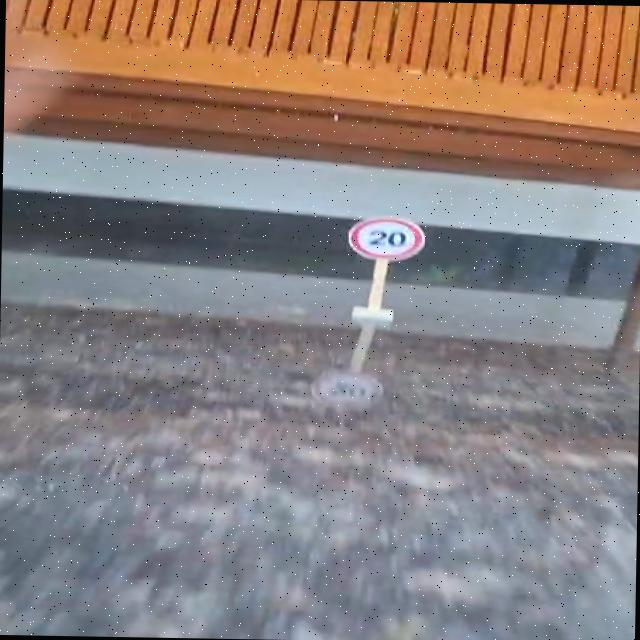Speed20: (335, 212, 435, 266)
